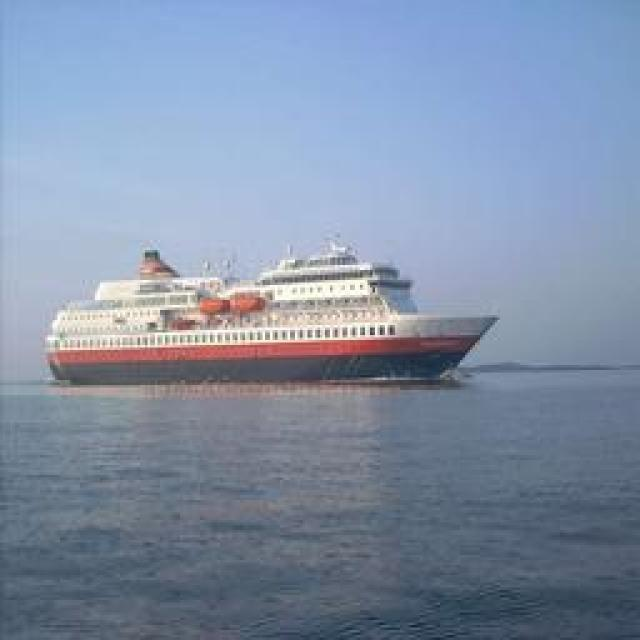CIV_Ship: (44, 228, 492, 386)
